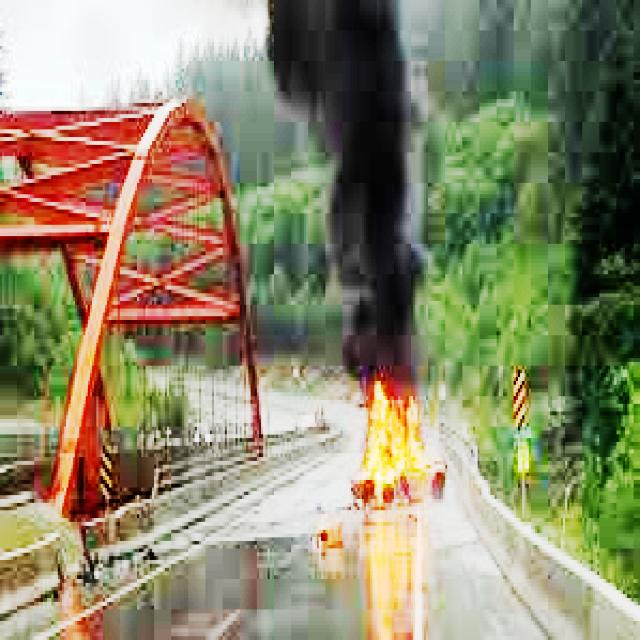api: (346, 374, 455, 519)
